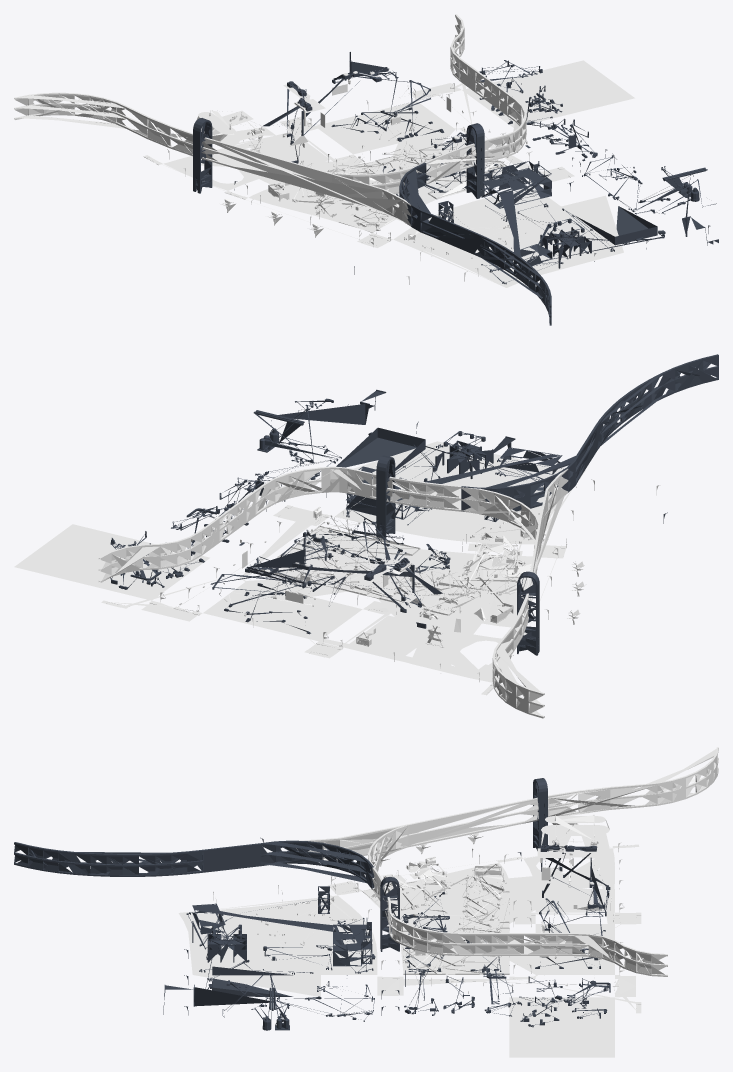
File: street_island2_07.glb
The picture shows the model from 3 angles, top to bottom: view 1: azimuth 30°, elevation 25°; view 2: azimuth 150°, elevation 25°; view 3: azimuth 270°, elevation 25°; orthographic projection. The views are drawn at different scales.
Visible parts, largest first — view 1: seg_380, seg_378, seg_955, seg_377, seg_959, seg_961, seg_853, seg_400, seg_667, seg_671, seg_967, seg_736 (+9 smaller); view 2: seg_380, seg_961, seg_378, seg_959, seg_377, seg_955, seg_400, seg_671, seg_853, seg_736, seg_730, seg_949 (+12 smaller); view 3: seg_380, seg_378, seg_959, seg_955, seg_961, seg_377, seg_400, seg_853, seg_671, seg_730, seg_667, seg_736 (+15 smaller).
Boxes of the visible parts, left/top/right/bottom form: seg_380: left=163, top=101, right=498, bottom=229; seg_378: left=393, top=186, right=623, bottom=287; seg_955: left=14, top=92, right=411, bottom=226; seg_377: left=462, top=60, right=634, bottom=127; seg_959: left=399, top=162, right=551, bottom=325; seg_961: left=425, top=14, right=526, bottom=184; seg_853: left=438, top=161, right=552, bottom=272; seg_400: left=143, top=83, right=574, bottom=247; seg_667: left=481, top=208, right=665, bottom=284; seg_671: left=632, top=166, right=718, bottom=245; seg_967: left=193, top=118, right=212, bottom=193; seg_736: left=576, top=206, right=657, bottom=245; seg_380: left=203, top=545, right=530, bottom=682; seg_961: left=98, top=466, right=461, bottom=582; seg_378: left=319, top=441, right=585, bottom=544; seg_959: left=461, top=354, right=718, bottom=511; seg_377: left=14, top=524, right=209, bottom=600; seg_955: left=492, top=469, right=568, bottom=718; seg_400: left=101, top=505, right=566, bottom=695; seg_671: left=253, top=389, right=386, bottom=463; seg_853: left=346, top=447, right=562, bottom=521; seg_736: left=336, top=427, right=425, bottom=470; seg_730: left=406, top=592, right=498, bottom=632; seg_949: left=461, top=487, right=538, bottom=541; seg_380: left=364, top=848, right=614, bottom=974; seg_378: left=178, top=895, right=377, bottom=996; seg_959: left=14, top=840, right=374, bottom=889; seg_955: left=296, top=747, right=718, bottom=860; seg_961: left=372, top=867, right=667, bottom=976; seg_377: left=509, top=997, right=614, bottom=1057; seg_400: left=327, top=844, right=641, bottom=1013; seg_853: left=192, top=886, right=372, bottom=966; seg_671: left=163, top=969, right=289, bottom=1030; seg_730: left=541, top=816, right=610, bottom=850; seg_667: left=186, top=912, right=313, bottom=989; seg_736: left=212, top=966, right=292, bottom=996.
Size of the model in its own units: 462 by 66.74 by 534.
